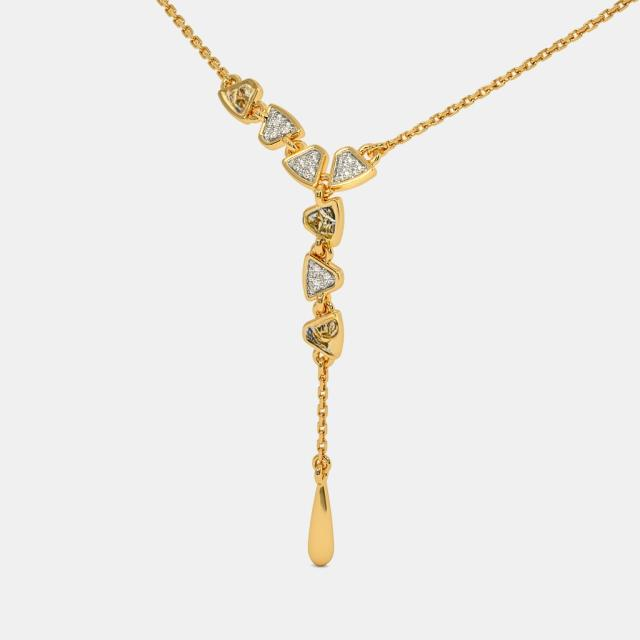missing gem: (305, 317, 339, 357), (223, 81, 259, 114), (309, 207, 335, 239)
